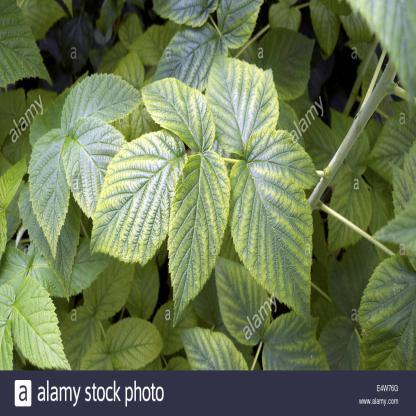Raspberry leaf: (230, 154, 318, 330), (86, 127, 192, 272), (164, 150, 229, 322), (202, 51, 282, 158), (65, 117, 142, 226), (28, 128, 70, 256), (138, 84, 214, 154), (249, 128, 322, 200), (57, 72, 144, 131)
